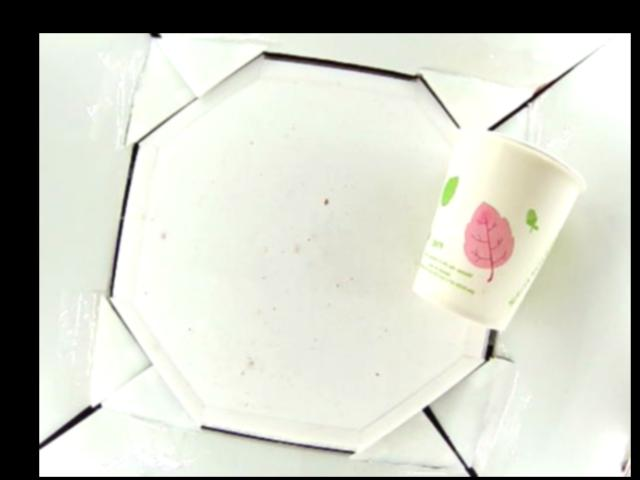Cup: (413, 128, 588, 331)
